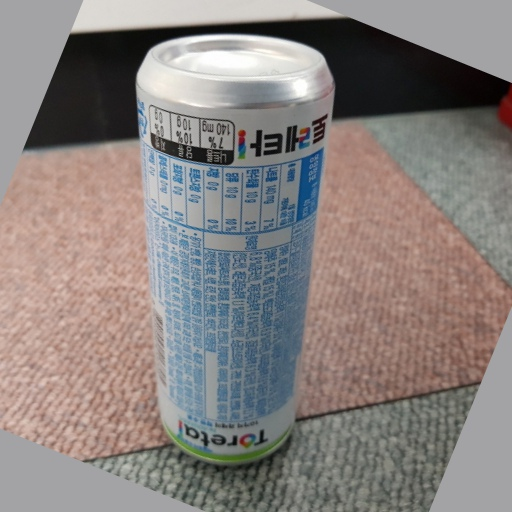Metal_0: (135, 33, 337, 468)
